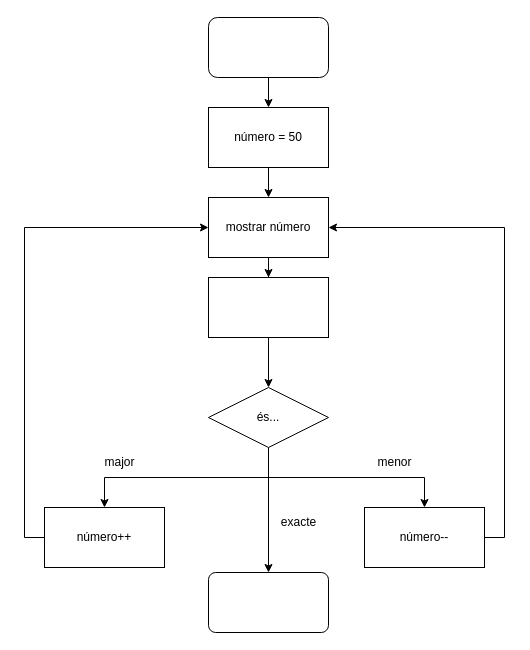
Some shapes in this 530 by 650 pixel diagram are drawn without their labels. The centre of each missing label's shape, as x and y in pixels:
"Demanar si és més gran, més petit o exacte" belongs at [268,307].
"Fi" belongs at [268,602].
"Inici" belongs at [268,47].
